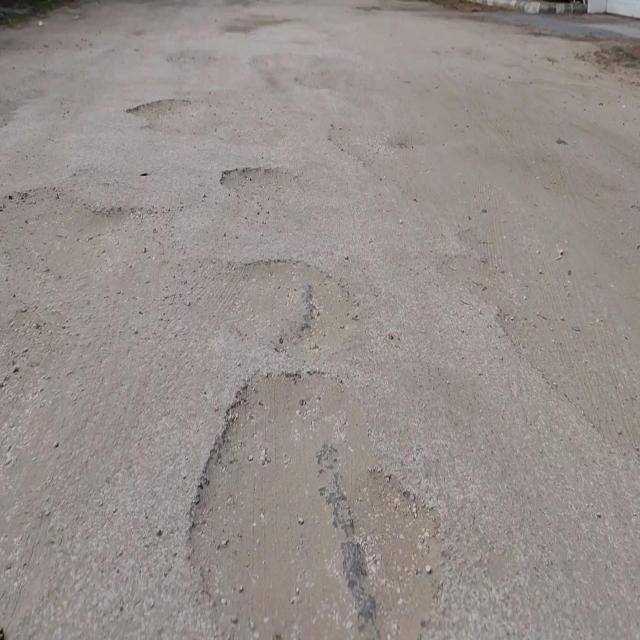Potholes: (183, 368, 454, 640), (213, 259, 359, 358), (124, 94, 219, 139), (217, 164, 303, 198)
